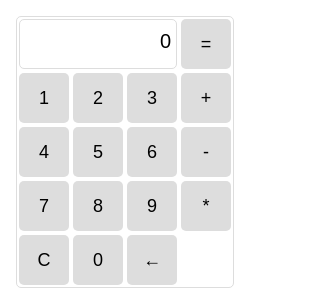
Calculator › without boilerplate using aliases › multiplies numbers
Click the button with test id "1". click: [44, 98]
box: [19,73,69,123]
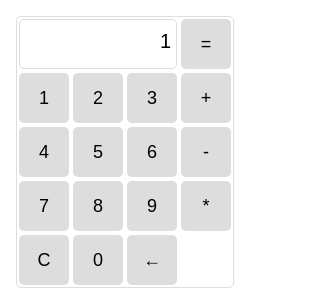
Click the button with test id "2". click: [98, 98]
box: [73,73,123,123]
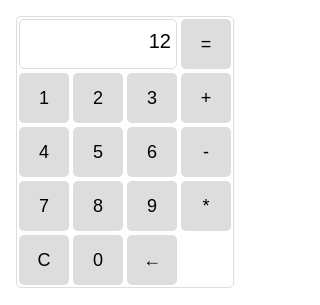
Click the button with test id "*". click: [206, 206]
box: [181,181,231,231]
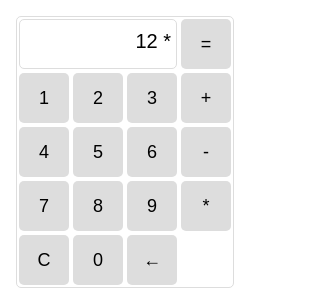
Click the button with test id "5". click: [98, 152]
box: [73,127,123,177]
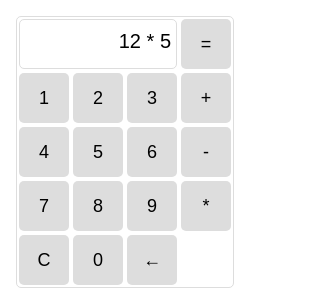
Click the button with test id "calculate". click: [206, 44]
box: [181,19,231,69]
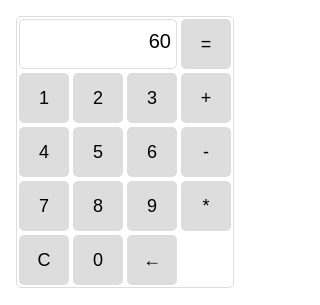
Check: the text "60" is shown, box [19,19,177,69]
